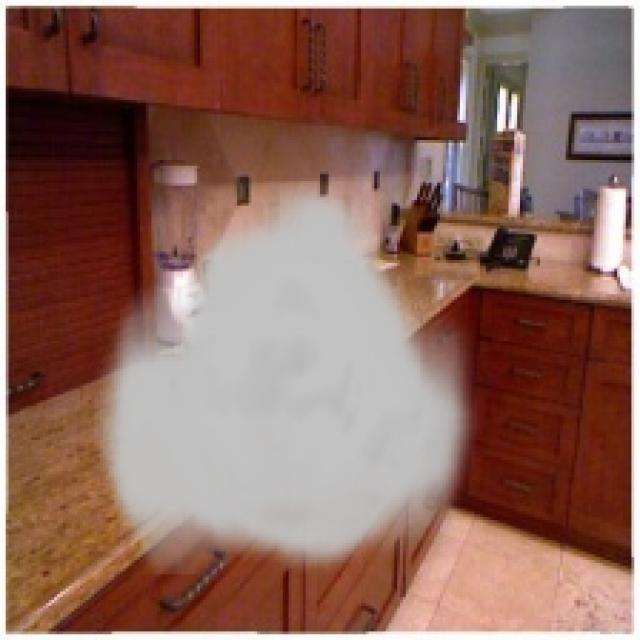smoke: (94, 180, 486, 574)
